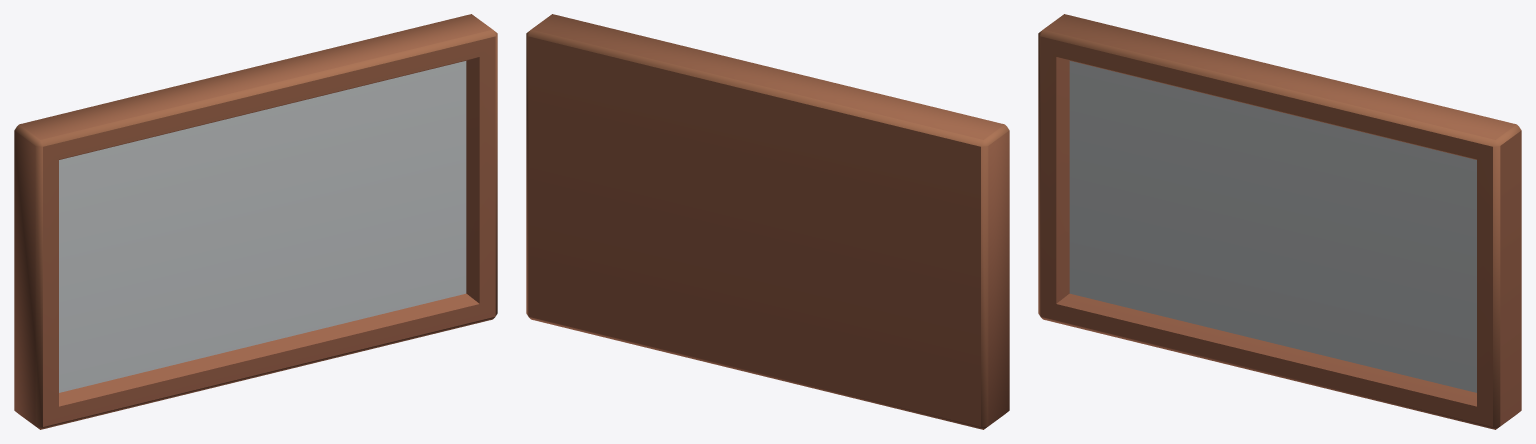
The model's file is K_pictureframe_large_B.glb.
3 renders of one model, left to right at view 1: azimuth 30°, elevation 25°; view 2: azimuth 150°, elevation 25°; view 3: azimuth 330°, elevation 25°, orthographic.
Visible parts, largest first — view 1: pictureframe_large_B; view 2: pictureframe_large_B; view 3: pictureframe_large_B.
Part boxes in pixels (bbox=[...]): pictureframe_large_B: bbox=[14, 14, 497, 429]; pictureframe_large_B: bbox=[526, 14, 1009, 429]; pictureframe_large_B: bbox=[1038, 14, 1521, 429].
Bounding box in the file's own units: 2 × 1.2 × 0.2.
